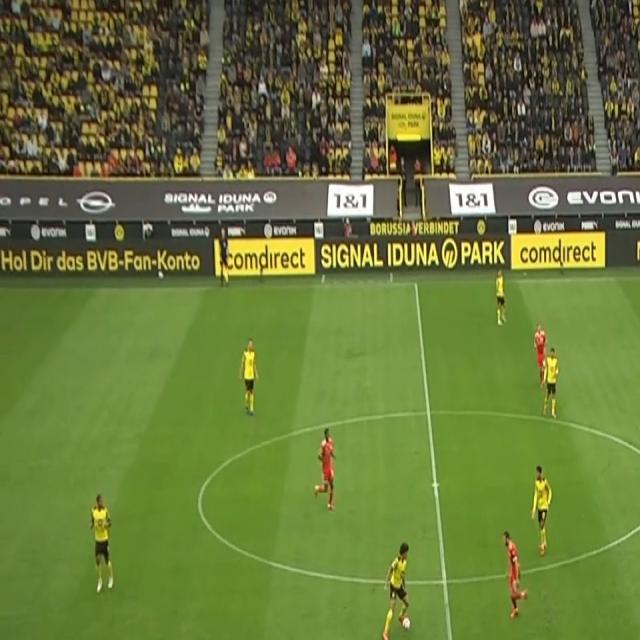ball: (402, 615, 412, 634)
